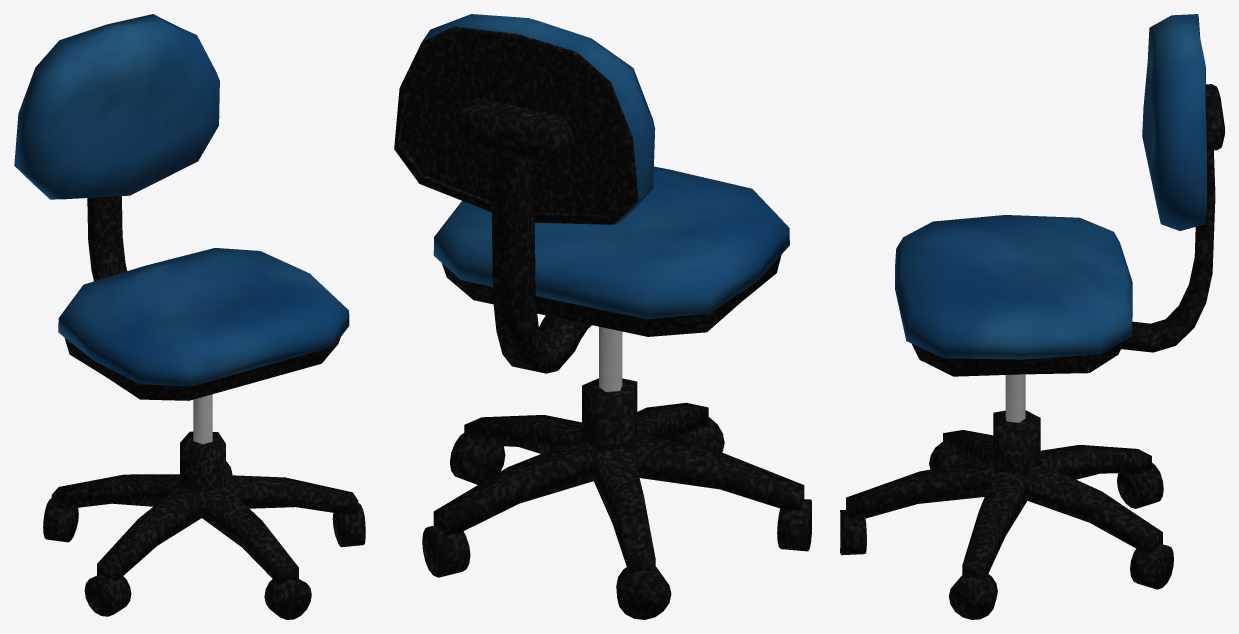
Rendered from chair.obj.
The picture shows the model from 3 angles, left to right: view 1: azimuth 30°, elevation 25°; view 2: azimuth 150°, elevation 25°; view 3: azimuth 270°, elevation 25°; orthographic projection. The views are drawn at different scales.
Parts seen in each view (by area): view 1: BézierCurve; view 2: BézierCurve; view 3: BézierCurve.
Part boxes in pixels (box(x1,y1,x2,y2)): BézierCurve: box(14, 14, 365, 619); BézierCurve: box(394, 14, 811, 619); BézierCurve: box(840, 14, 1224, 619).
Size of the model in its own units: 0.587 by 0.9663 by 0.6571.
1 material, 1 textured.
